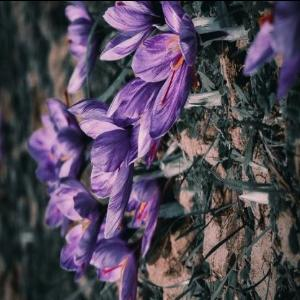Saffron: (136, 0, 214, 135), (76, 91, 143, 234), (49, 169, 110, 286), (24, 100, 85, 197), (88, 230, 144, 300), (60, 0, 105, 86), (100, 0, 157, 60)
